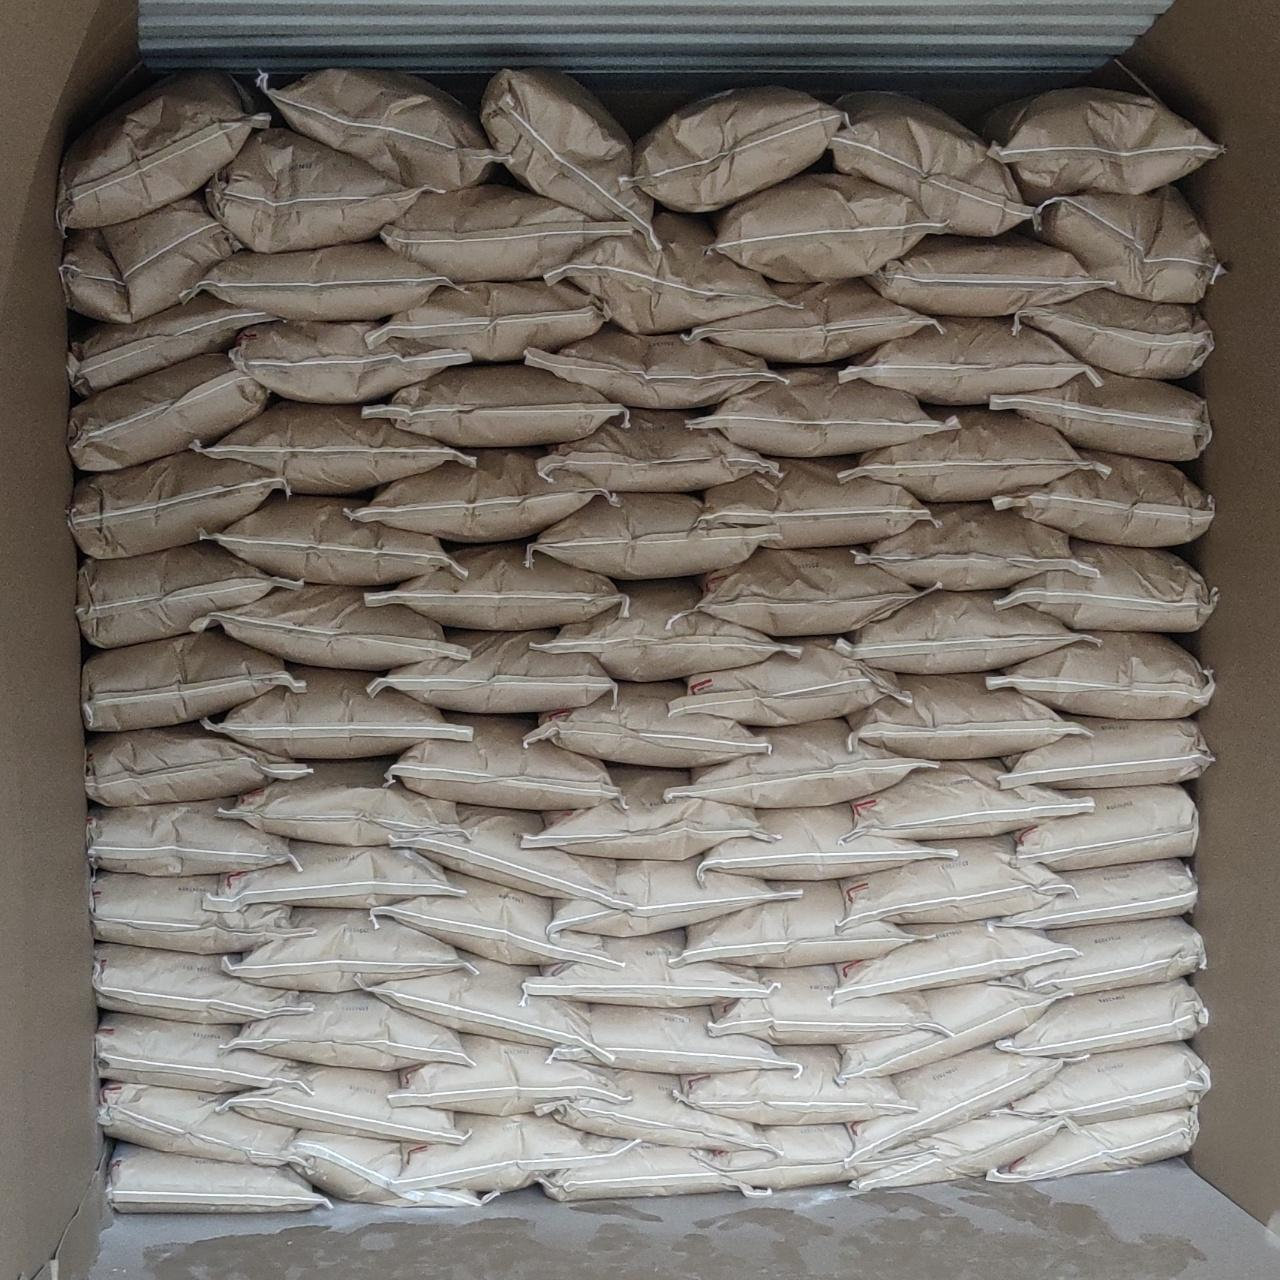sack: (60, 70, 274, 228), (830, 94, 1032, 234), (482, 68, 654, 232), (268, 70, 496, 190), (548, 212, 774, 332), (978, 90, 1220, 202), (626, 88, 846, 210), (194, 402, 470, 494), (382, 184, 652, 278), (208, 128, 418, 248), (852, 1048, 1066, 1162), (710, 172, 940, 278), (392, 804, 626, 908), (210, 666, 468, 758), (546, 580, 784, 678), (70, 354, 270, 470), (70, 450, 286, 556), (692, 368, 958, 454), (668, 720, 934, 806), (372, 872, 614, 966), (840, 408, 1086, 500), (78, 542, 294, 646), (356, 450, 598, 542), (194, 586, 464, 668), (368, 542, 622, 628), (1034, 186, 1222, 302), (840, 318, 1092, 404), (838, 984, 1062, 1080), (62, 196, 236, 318), (84, 630, 300, 728), (366, 364, 622, 446), (528, 766, 766, 854), (210, 496, 452, 582), (686, 280, 938, 362), (392, 714, 614, 806), (840, 836, 1066, 926), (828, 922, 1076, 1004), (526, 682, 766, 766), (524, 328, 782, 406), (698, 548, 926, 636), (672, 640, 908, 724), (366, 956, 586, 1046), (70, 294, 272, 392), (704, 458, 928, 546), (994, 452, 1212, 542), (998, 540, 1216, 630), (226, 908, 464, 990), (856, 504, 1088, 588), (678, 882, 910, 966), (870, 234, 1106, 316), (198, 240, 446, 318), (224, 760, 454, 844), (540, 410, 780, 490), (230, 322, 470, 402), (838, 592, 1084, 670), (992, 372, 1210, 460), (530, 494, 758, 578), (370, 632, 612, 710), (988, 634, 1212, 718), (848, 674, 1072, 758), (704, 804, 958, 878), (396, 1116, 639, 1193), (230, 992, 466, 1070), (550, 860, 798, 934), (992, 1043, 1207, 1128), (852, 762, 1092, 838), (86, 722, 308, 804), (372, 280, 604, 358), (540, 1070, 766, 1150), (392, 1034, 622, 1112), (226, 1066, 462, 1142), (208, 840, 462, 910), (678, 1048, 910, 1124), (528, 932, 764, 1006), (850, 1111, 1062, 1192), (712, 966, 932, 1044), (1014, 290, 1212, 376), (92, 872, 308, 950), (94, 944, 310, 1022), (96, 1012, 306, 1092), (552, 1004, 790, 1072), (100, 1082, 294, 1164), (88, 798, 292, 874), (998, 980, 1206, 1054), (1010, 786, 1196, 868), (292, 1132, 492, 1208), (700, 1121, 921, 1189), (108, 1144, 328, 1212), (1002, 918, 1204, 992), (1000, 718, 1212, 788), (988, 1110, 1196, 1180), (994, 860, 1196, 926), (537, 1142, 743, 1201)
